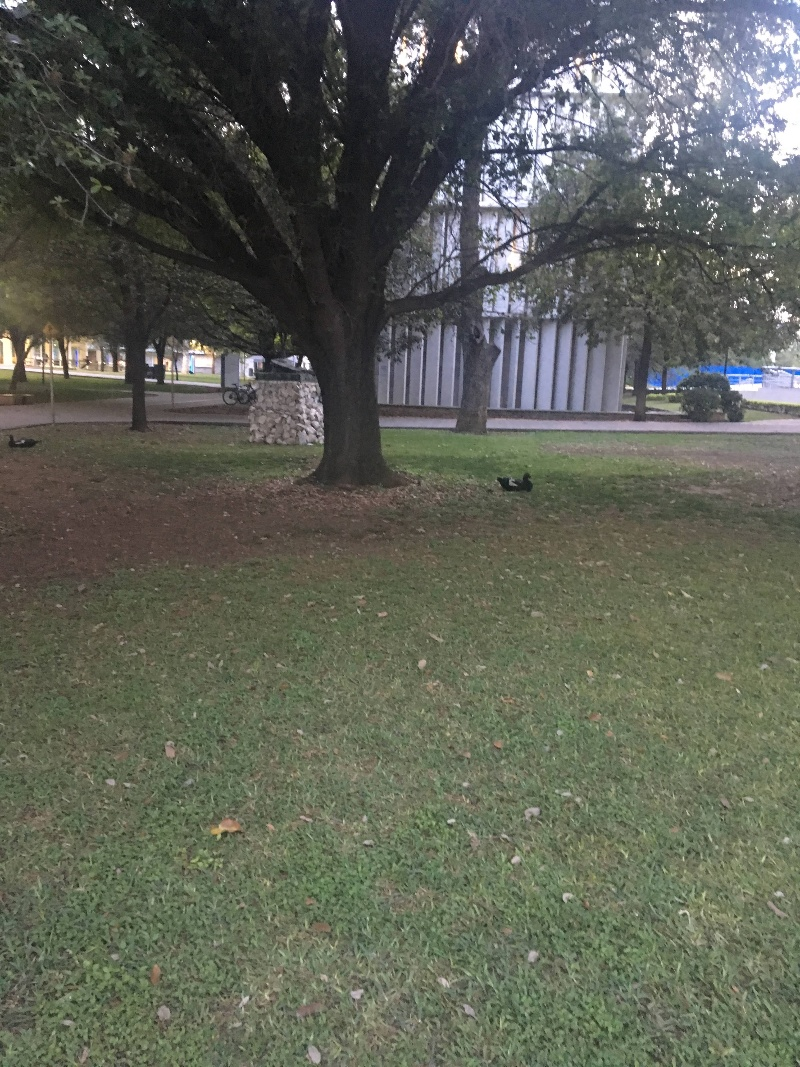pato: (495, 468, 540, 495), (9, 432, 40, 451)
